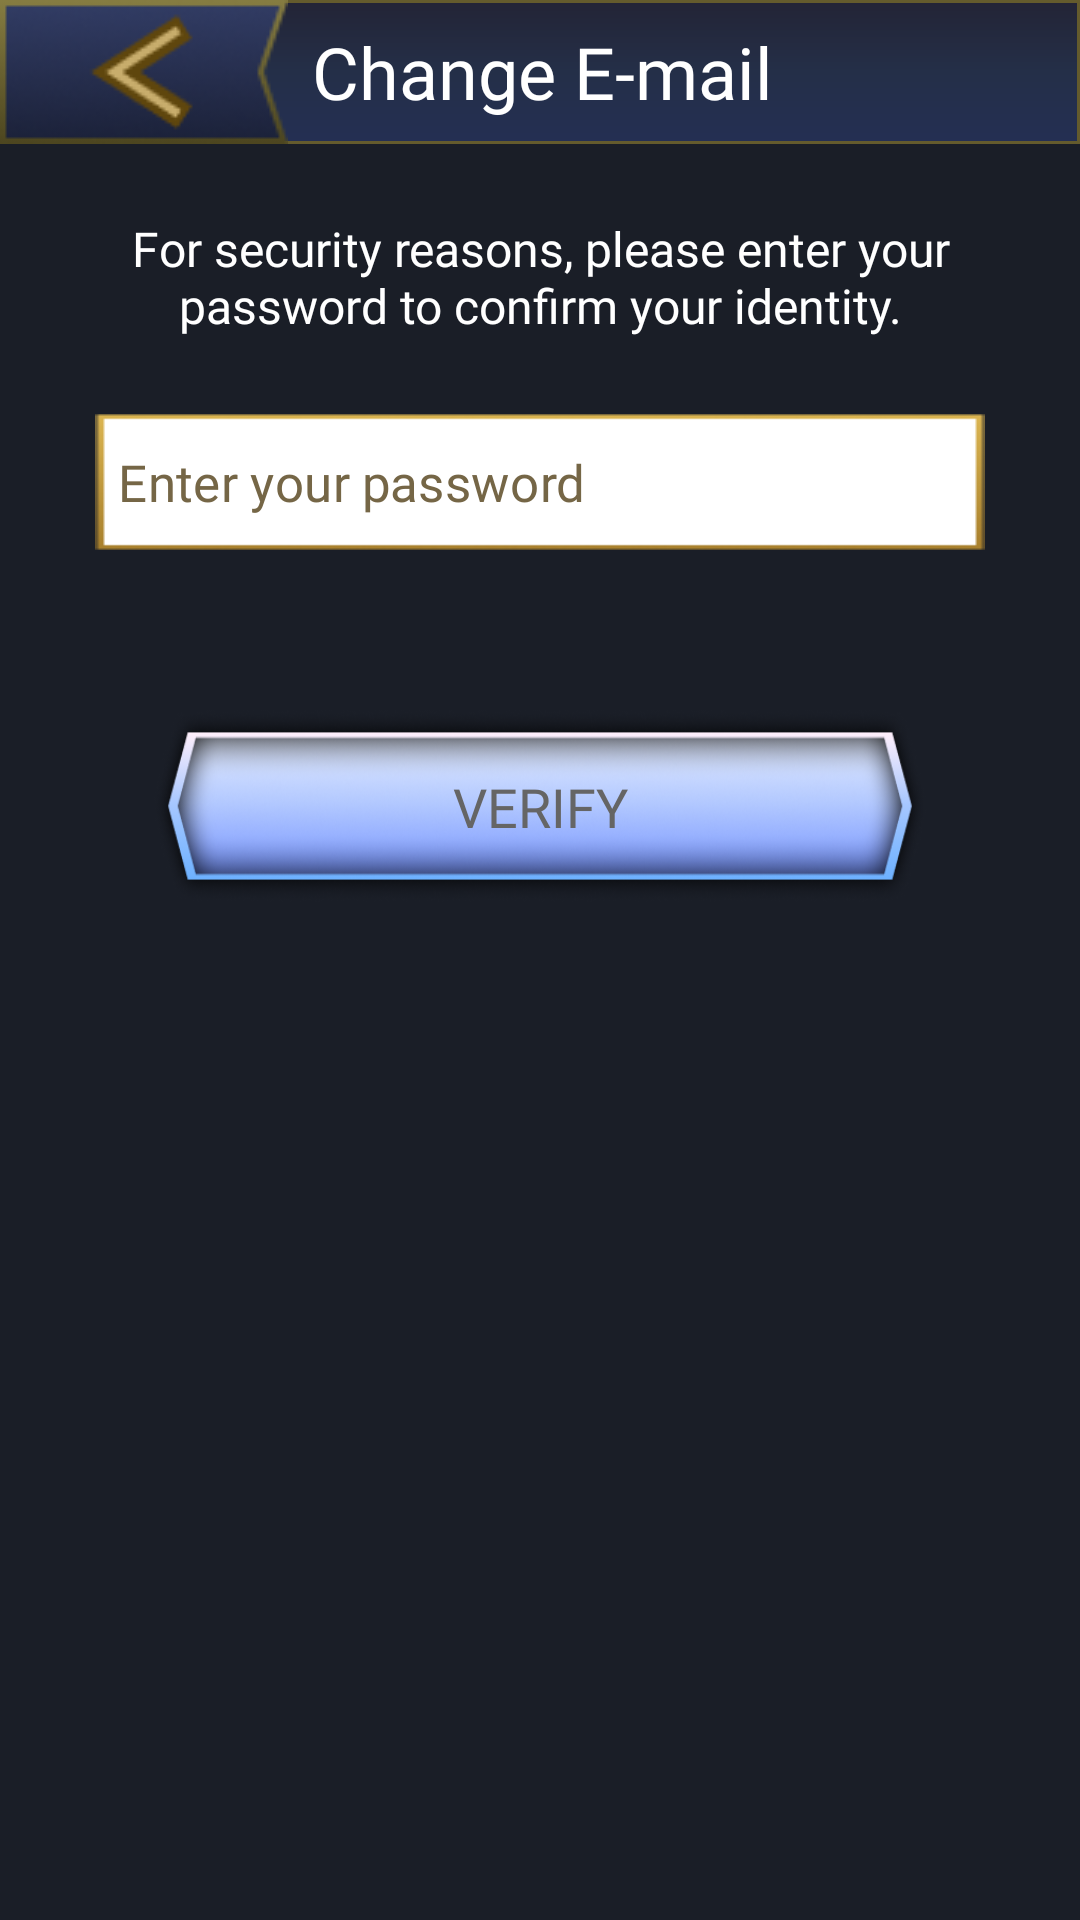

Where to tap for icons on this 1080 x 1920 app screen, as (x=x, y=y):
back: (x=144, y=72)
